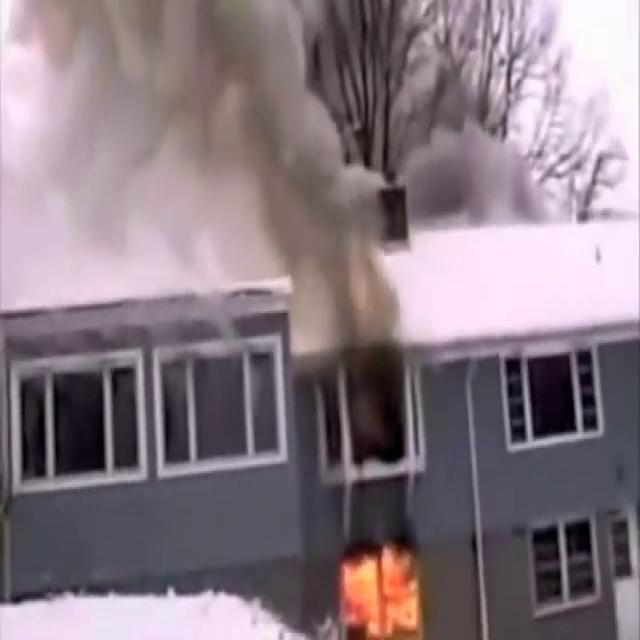Fire: (329, 532, 437, 636)
Smoke: (0, 1, 382, 294), (388, 40, 552, 234)
